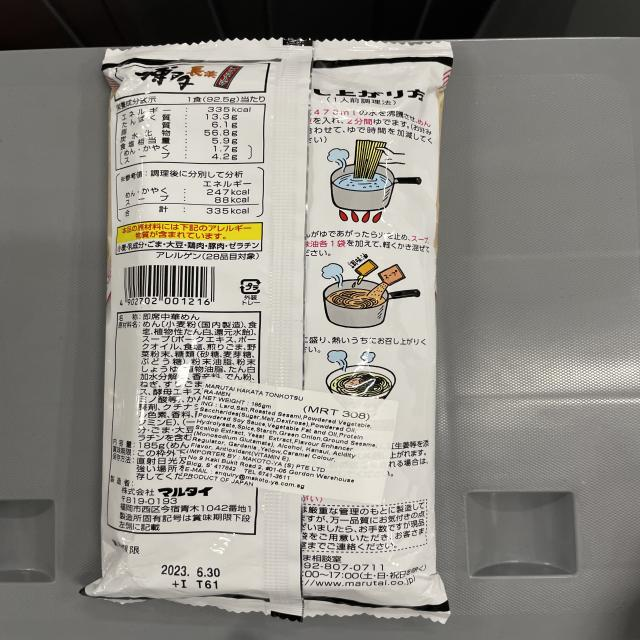object_name: (109, 47, 437, 613)
